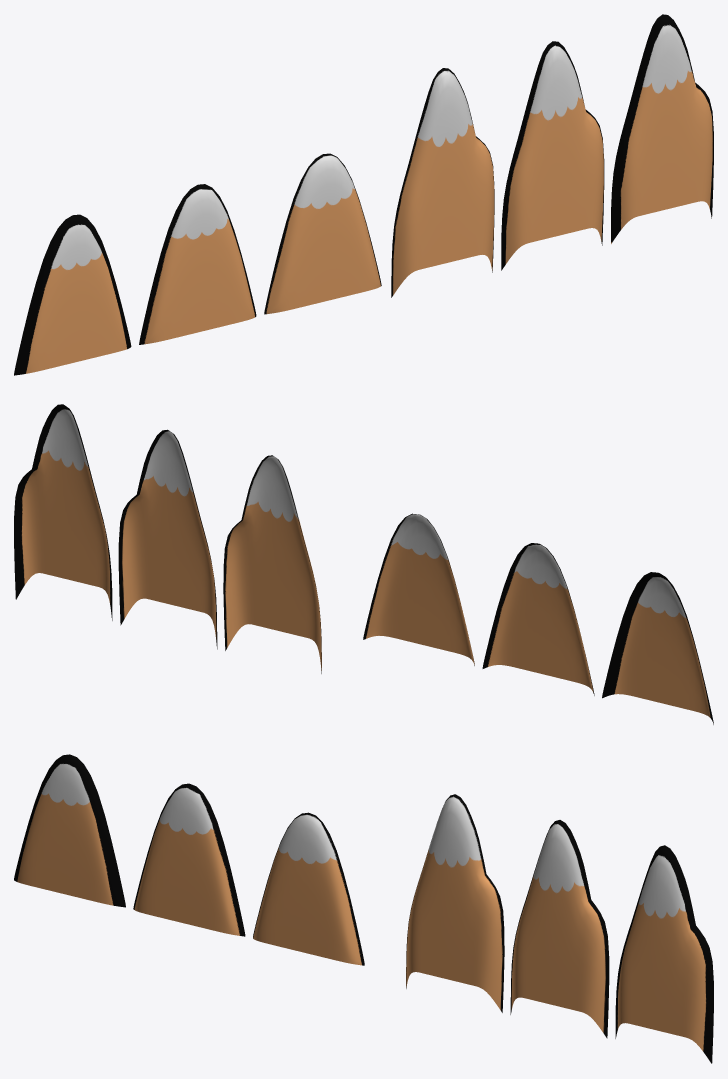
File: Mountain.FBX
3 views of the same model, one above another, from view 1: azimuth 30°, elevation 25°; view 2: azimuth 150°, elevation 25°; view 3: azimuth 330°, elevation 25° (orthographic). The views are drawn at different scales.
Parts seen in each view (by area): view 1: Plane024, Plane021, Plane025, Plane023, Plane027, Plane026; view 2: Plane024, Plane021, Plane025, Plane027, Plane023, Plane026; view 3: Plane024, Plane021, Plane025, Plane027, Plane026, Plane023.
Part boxes in pixels (left/top/right/bottom): Plane024: left=501, top=41, right=604, bottom=270; Plane021: left=391, top=68, right=494, bottom=297; Plane025: left=611, top=14, right=713, bottom=243; Plane023: left=264, top=153, right=381, bottom=314; Plane027: left=14, top=214, right=131, bottom=375; Plane026: left=139, top=184, right=256, bottom=344; Plane024: left=118, top=429, right=217, bottom=649; Plane021: left=223, top=455, right=321, bottom=673; Plane025: left=14, top=404, right=112, bottom=620; Plane027: left=602, top=572, right=713, bottom=724; Plane023: left=363, top=513, right=474, bottom=665; Plane026: left=482, top=543, right=594, bottom=695; Plane024: left=510, top=820, right=609, bottom=1038; Plane021: left=406, top=794, right=504, bottom=1012; Plane025: left=615, top=845, right=713, bottom=1063; Plane027: left=14, top=754, right=125, bottom=907; Plane026: left=133, top=783, right=245, bottom=936; Plane023: left=253, top=812, right=364, bottom=965.
Bounding box in the file's own units: 10696 × 3104 × 589.
6 materials, 6 textured.
